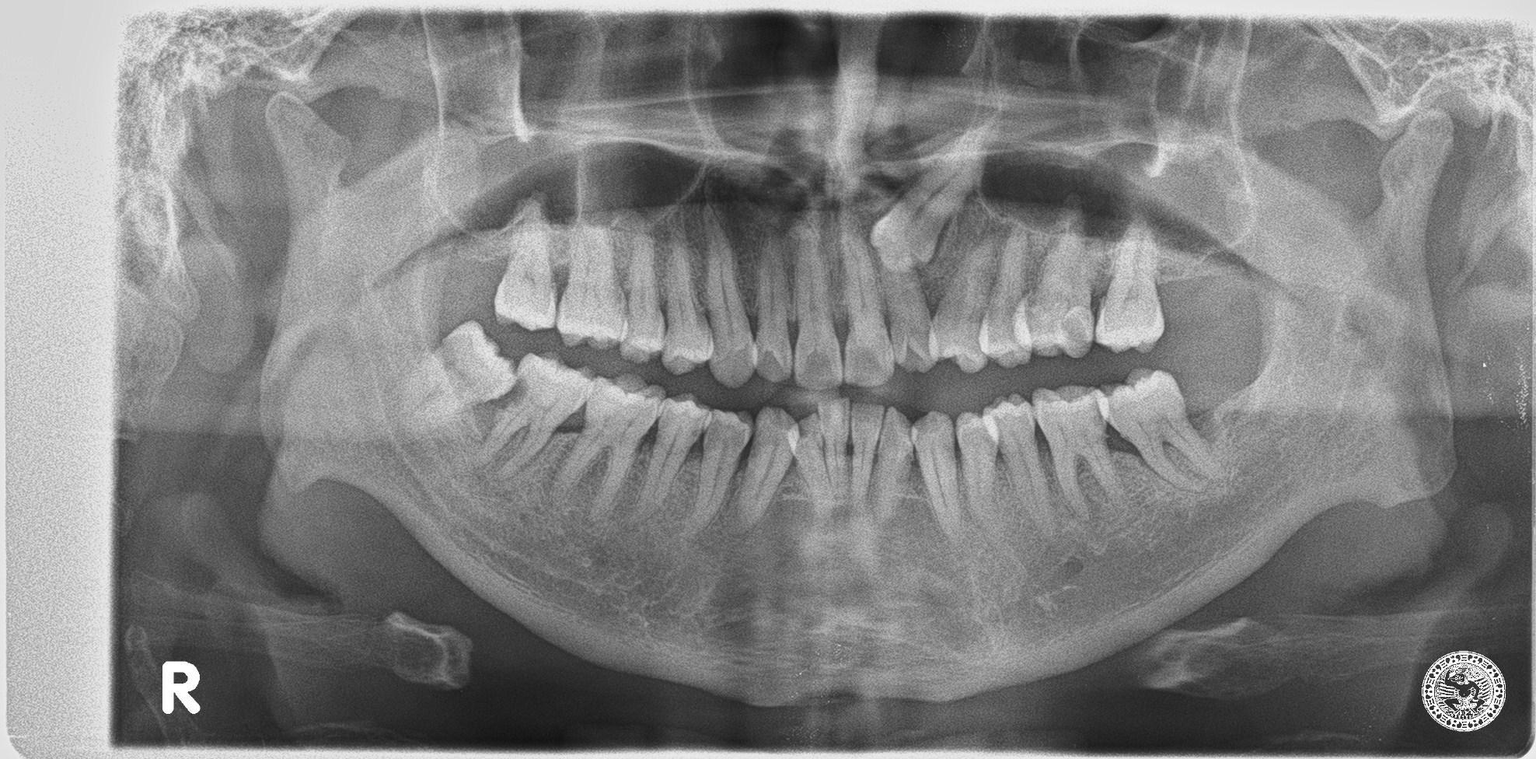Individual Tooth: (870, 128, 986, 274), (558, 378, 664, 520), (1099, 370, 1218, 490), (396, 321, 517, 432), (1000, 220, 1093, 355), (480, 354, 594, 463), (981, 401, 1060, 554), (1032, 386, 1117, 521), (954, 413, 1017, 567), (932, 235, 1004, 368), (840, 212, 894, 384), (792, 214, 843, 389), (1094, 226, 1164, 352), (635, 398, 712, 512), (704, 219, 756, 386), (557, 224, 627, 346), (686, 410, 751, 533), (495, 202, 557, 330), (662, 220, 712, 372), (735, 407, 797, 524), (914, 413, 969, 541), (878, 249, 934, 369), (620, 220, 665, 361), (980, 239, 1028, 366), (756, 236, 791, 380), (782, 414, 833, 504), (872, 410, 912, 520), (849, 404, 887, 498), (817, 396, 850, 498)
